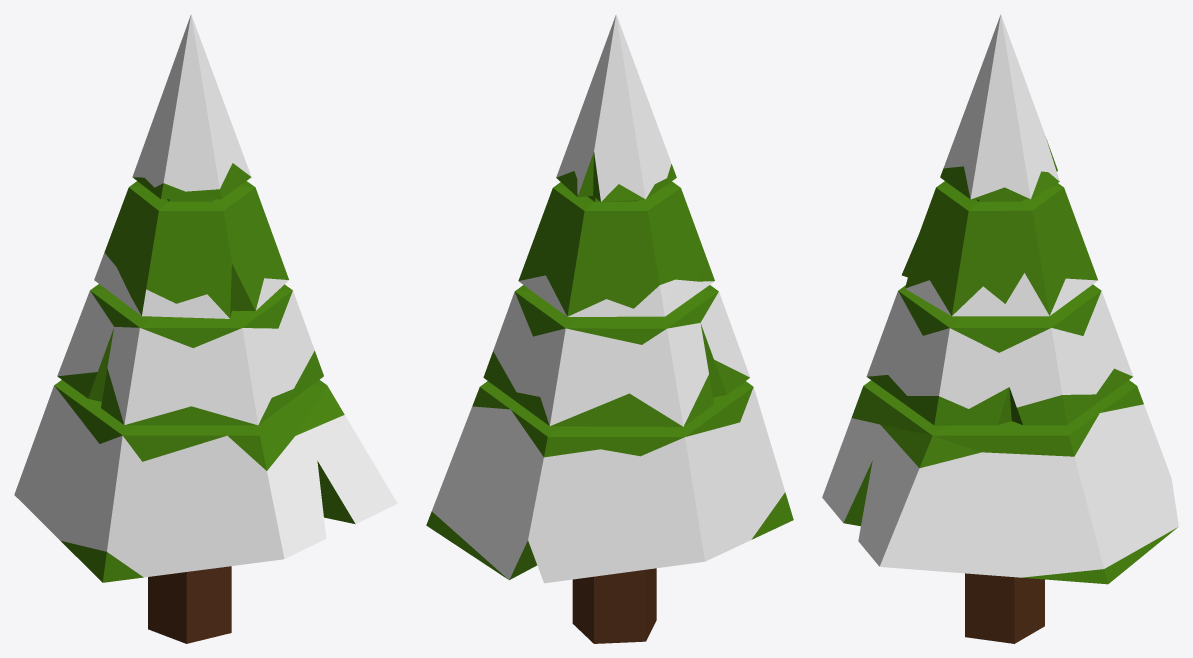
The model's file is Snow_tree_2_lowPoly.fbx.
3 renders of one model, left to right at view 1: azimuth 30°, elevation 25°; view 2: azimuth 150°, elevation 25°; view 3: azimuth 270°, elevation 25°, orthographic.
Visible parts, largest first — view 1: Цилиндр; view 2: Цилиндр; view 3: Цилиндр.
Boxes of the visible parts, x1,y1,x2,y2 form: Цилиндр: (14, 14, 397, 643); Цилиндр: (426, 14, 793, 643); Цилиндр: (822, 14, 1178, 643).
Size of the model in its own units: 728 by 1526 by 806.
